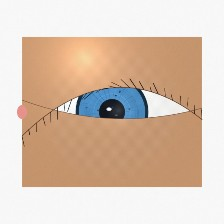pinguecula_lesion: (20, 94, 68, 132)
